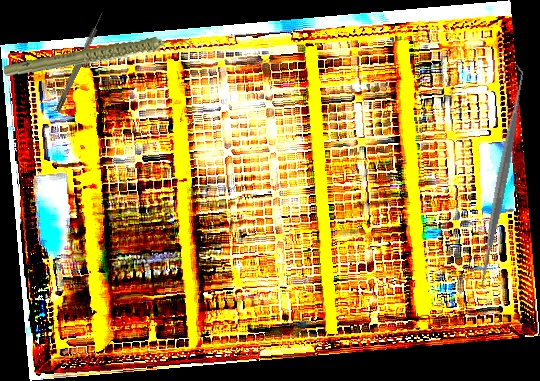Handpiece: (3, 24, 191, 91)
Hook Surgical: (54, 10, 106, 113)
Spatula Surgical: (468, 64, 536, 291)
